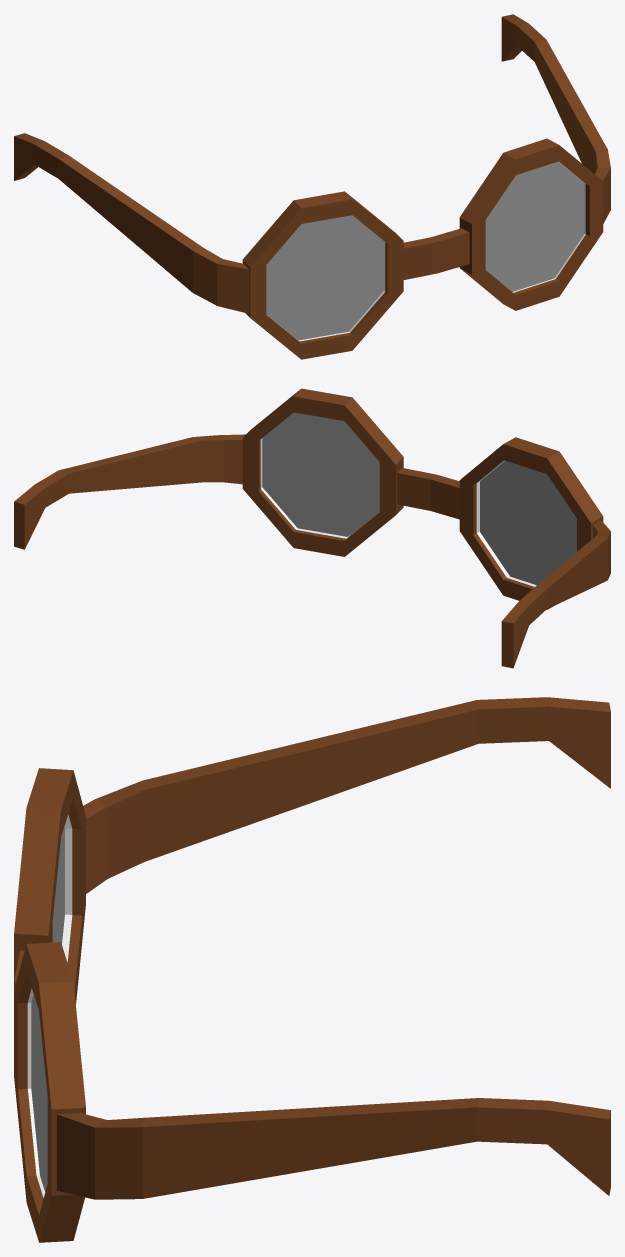
The model's file is Sunglasses.fbx.
3 renders of one model, top to bottom at view 1: azimuth 30°, elevation 25°; view 2: azimuth 150°, elevation 25°; view 3: azimuth 270°, elevation 25°, orthographic. The views are drawn at different scales.
Parts seen in each view (by area): view 1: Cylinder.087; view 2: Cylinder.087; view 3: Cylinder.087.
Part boxes in pixels (x1,y1,x2,y2): Cylinder.087: (14, 14, 610, 359); Cylinder.087: (14, 388, 610, 668); Cylinder.087: (14, 697, 610, 1242).
Size of the model in its own units: 206 by 125 by 59.71.
